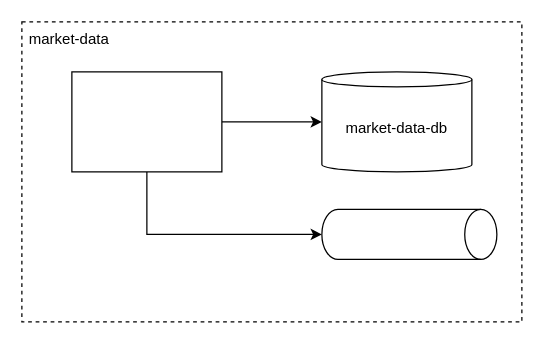
The diagram is 544 pixels wide and 344 high, and some of its shapes have lost their labels. The shapes that lost their labels are listed below. From the top down, each one's centre as x and y in pixels, then its label:
(146,121): market-data-api
(409,233): market-data-events
